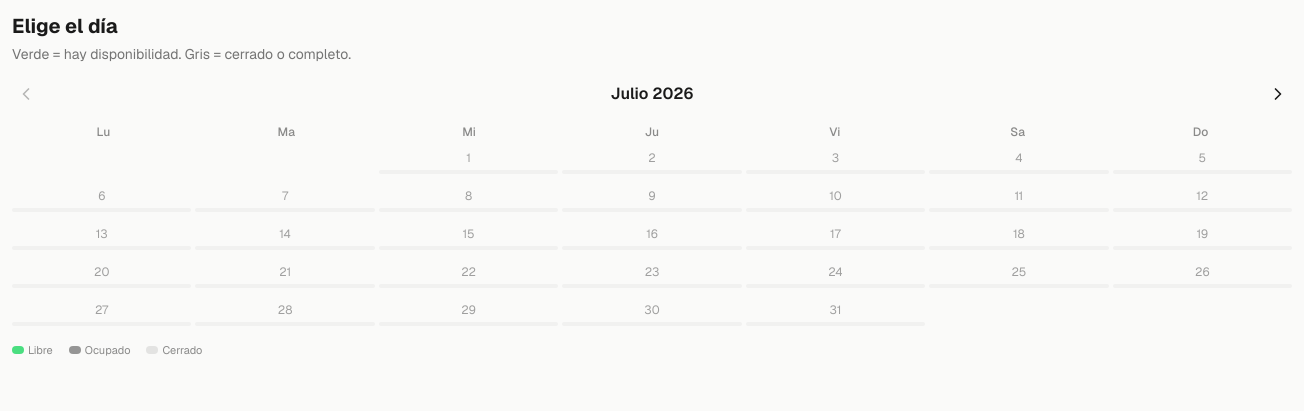
Scenario: StepSelectDate — month navigation › disables the back button again after returning to the current month
Click the button named "next month" at coordinates (1278, 94), box x1=1264 y1=80 x2=1292 y2=108
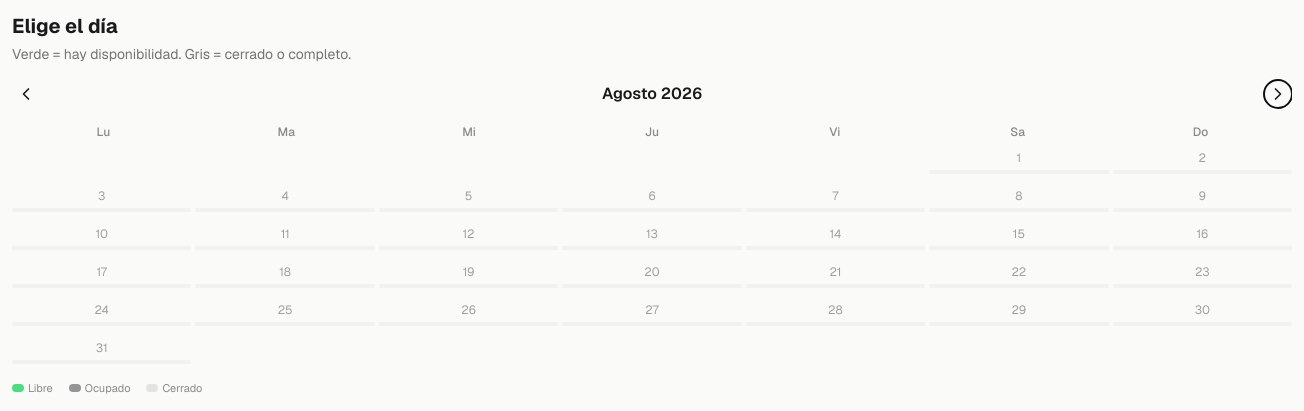
Click the button named "previous month" at coordinates (26, 94), box x1=12 y1=80 x2=40 y2=108
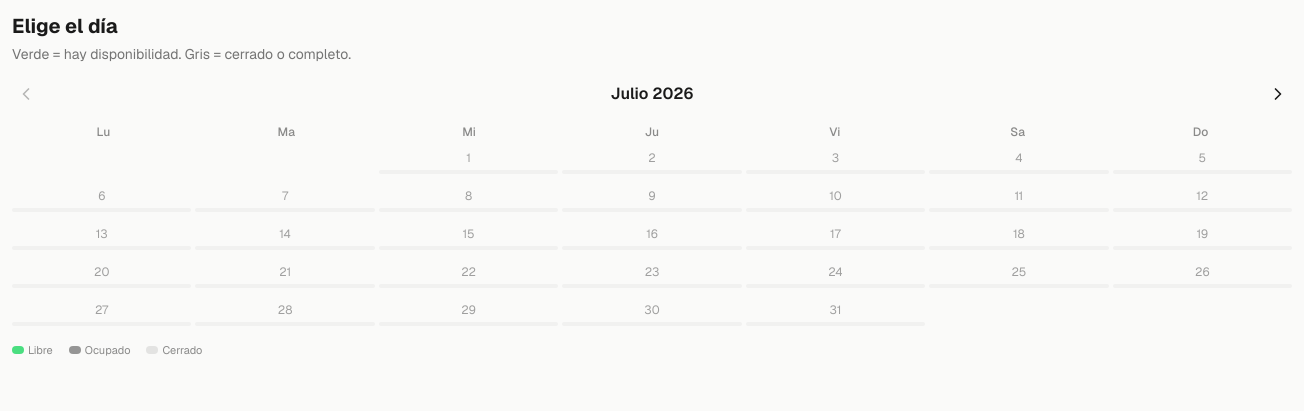
Now the button named "previous month" is disabled, box x1=12 y1=80 x2=40 y2=108
